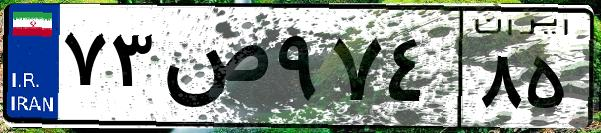3: (110, 28, 158, 98)
4: (385, 28, 445, 110)
5: (525, 38, 570, 115)
7: (330, 28, 385, 110), (57, 26, 110, 100)
8: (475, 38, 525, 113)
9: (270, 28, 330, 110)
ص: (158, 20, 270, 120)
